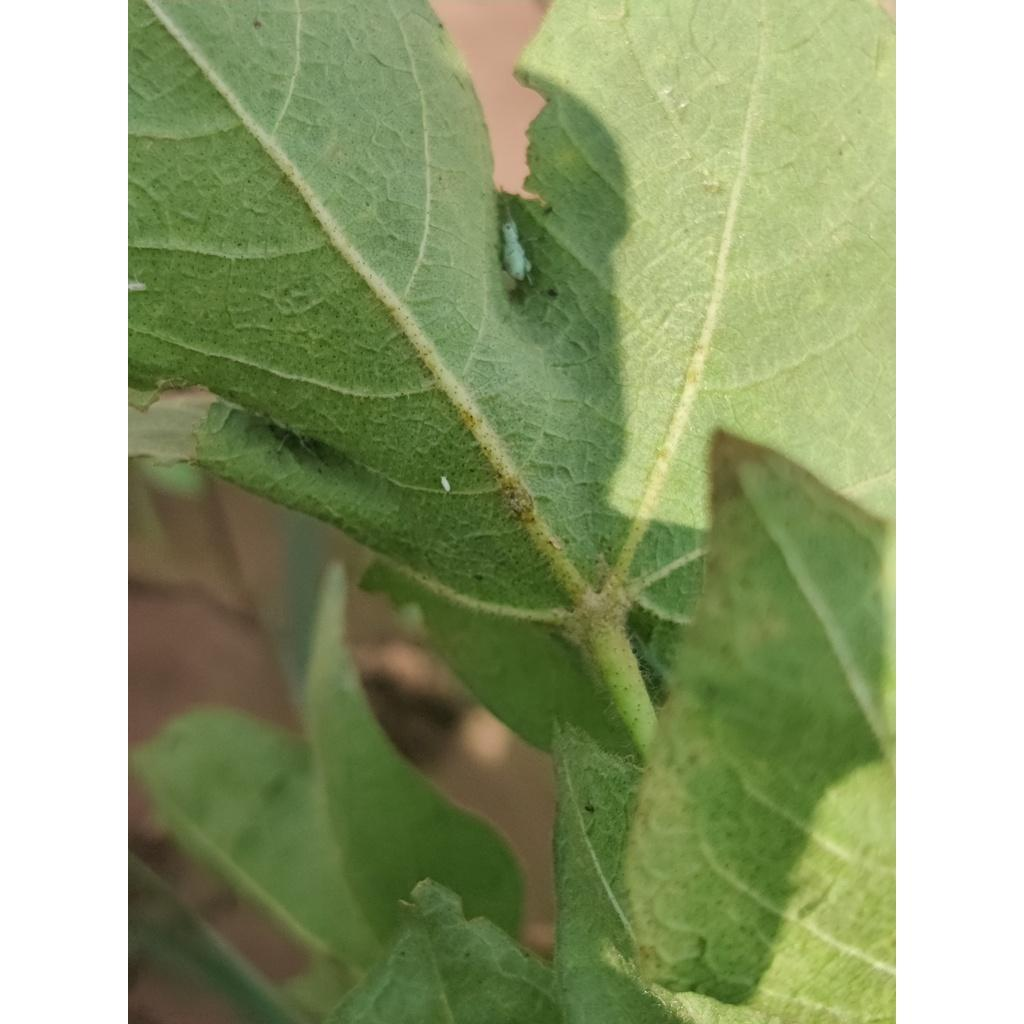adult: (127, 281, 148, 292), (440, 476, 451, 492)
